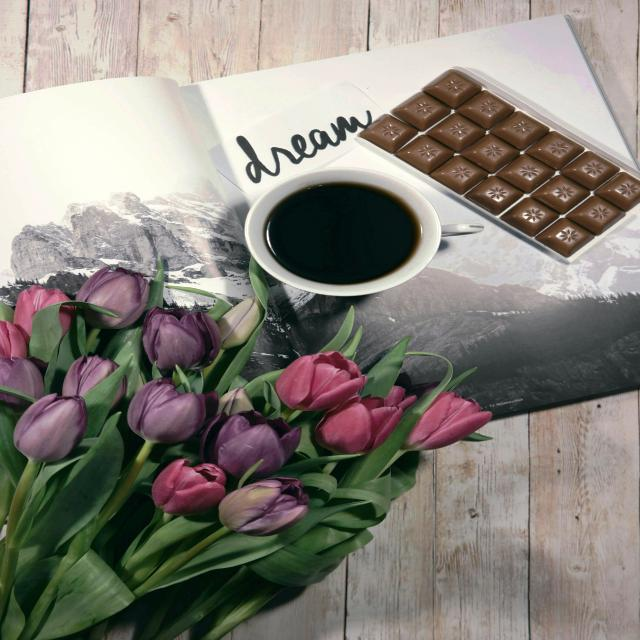drink: (241, 168, 446, 299)
